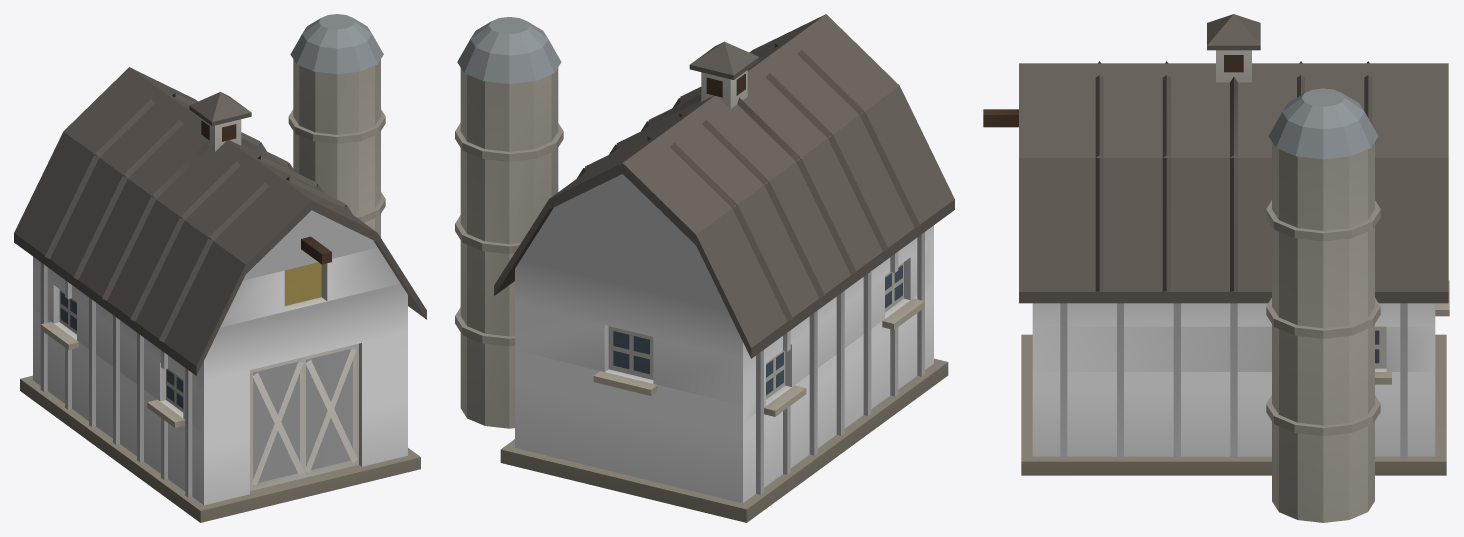
The model's file is barn.glb.
3 views of the same model, side by side, from view 1: azimuth 30°, elevation 25°; view 2: azimuth 150°, elevation 25°; view 3: azimuth 270°, elevation 25° (orthographic). The views are drawn at different scales.
Parts seen in each view (by area): view 1: Barn; view 2: Barn; view 3: Barn.
Part boxes in pixels (<box>): Barn: <box>14,14,426,522</box>; Barn: <box>455,14,954,522</box>; Barn: <box>983,14,1449,522</box>.
Bounding box in the file's own units: 0.9584 × 0.995 × 1.04.
